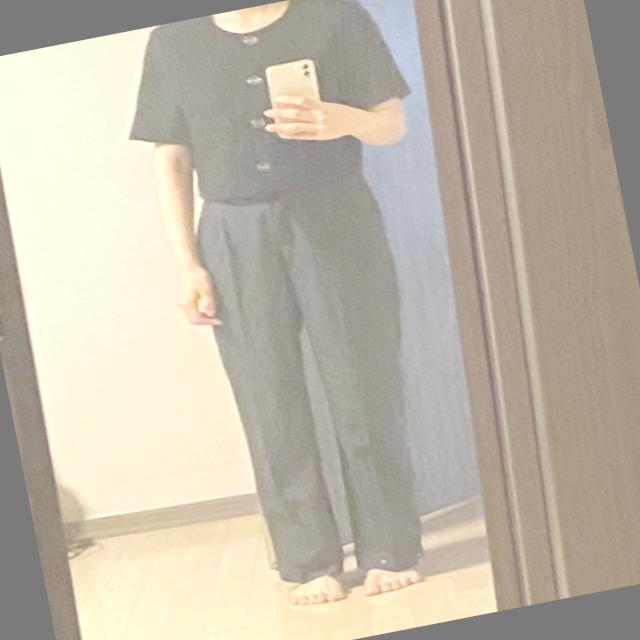blazer: (109, 0, 428, 225)
slacks: (186, 163, 456, 594)
